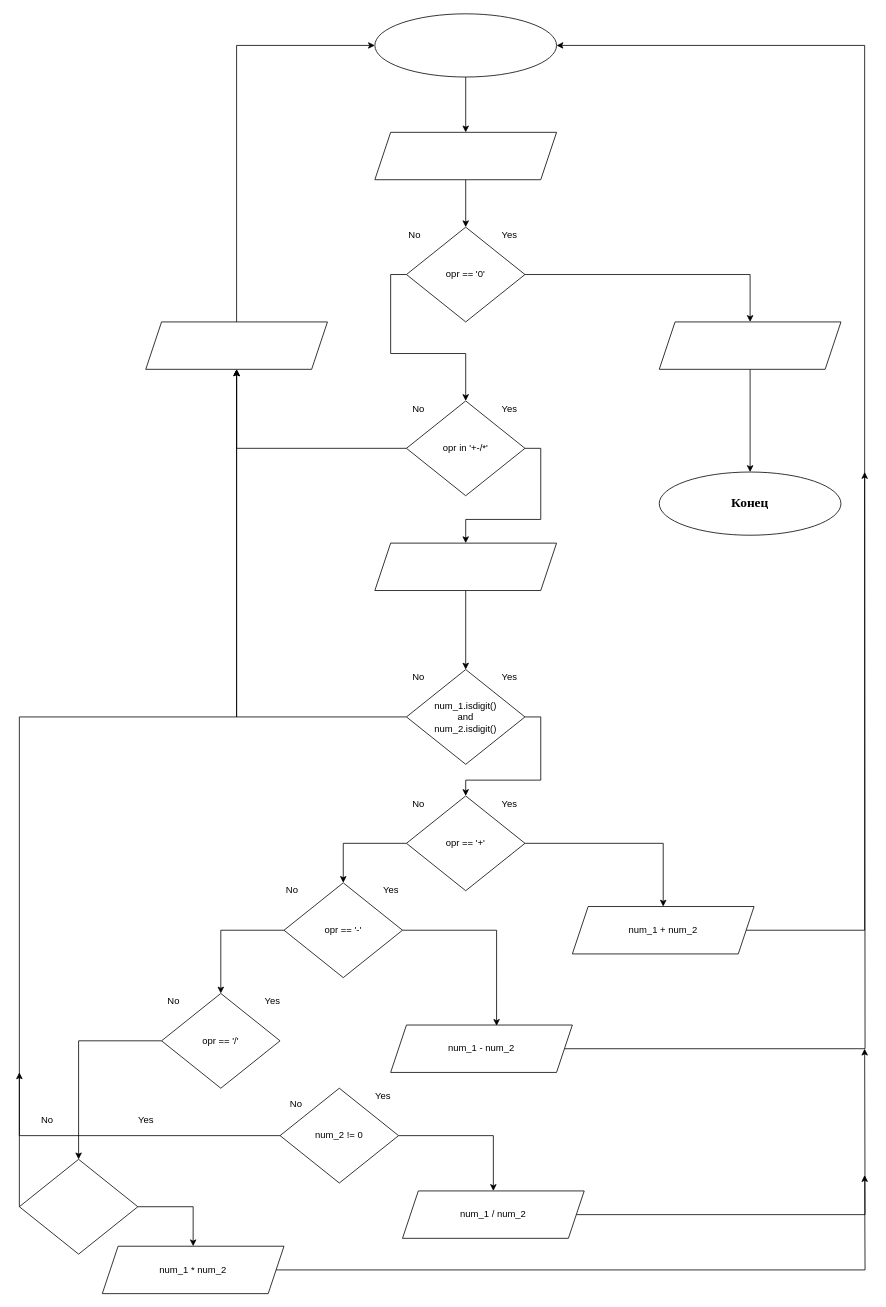
Some shapes in this 886 by 1307 pixel diagram are drawn without their labels. Here are the shapes that lost their labels. From the top down, the centre of each, then its label:
(465,45): calc()
(465,156): opr('+', '-', '*', '/' или '0')
(236,345): Cообщение об ошибке
(749,345): Завершение программы
(465,566): num_1, num_2
(78,1206): opr == '*'
